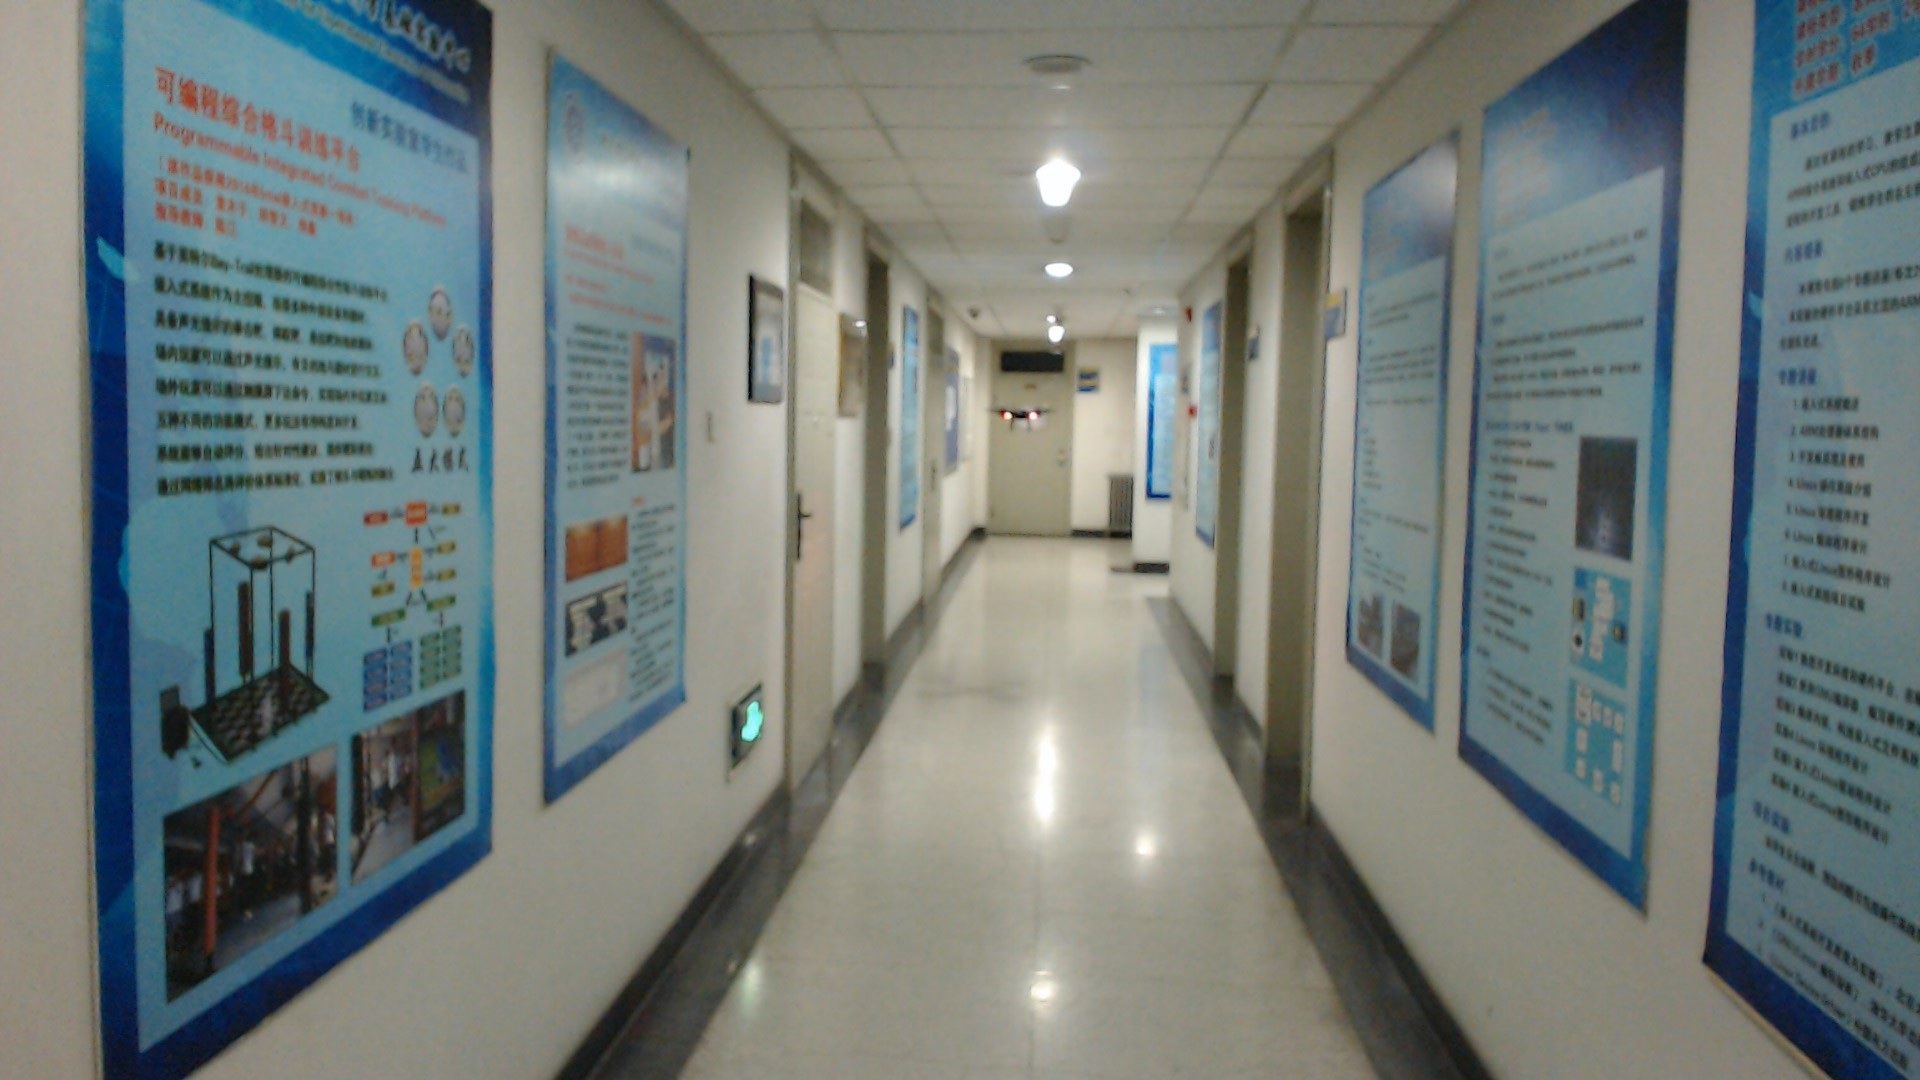drone_shadow: (907, 661, 1054, 713)
test_drone: (982, 398, 1073, 434)
